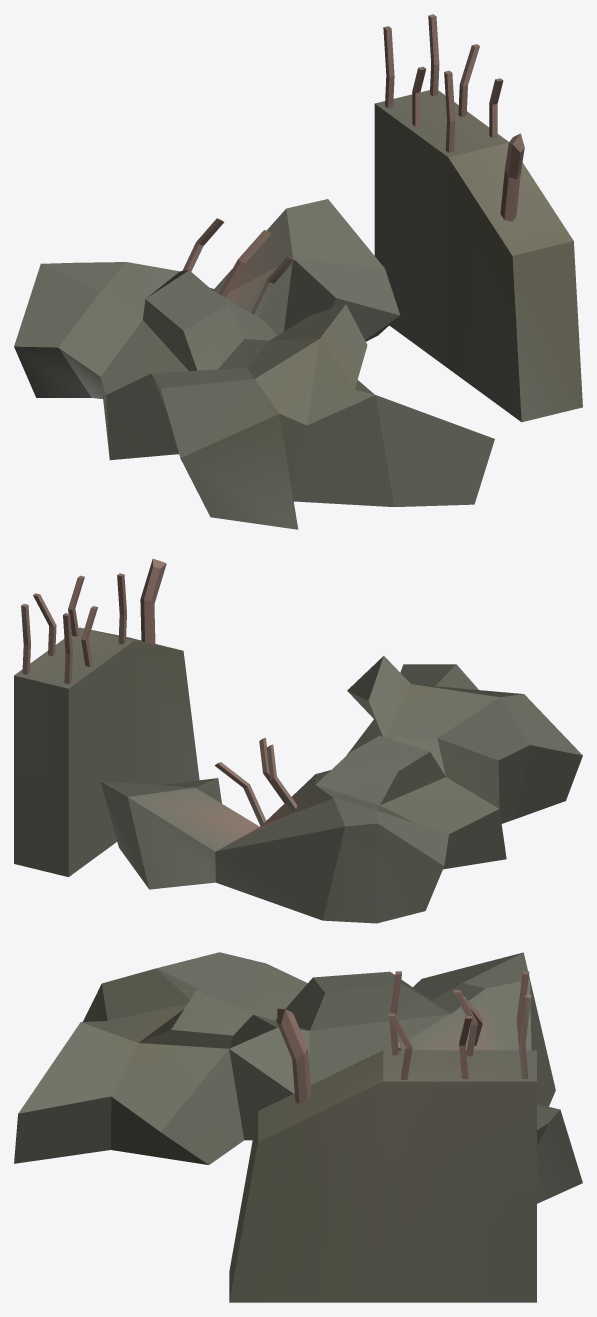
File: EscombrosA.fbx
The picture shows the model from 3 angles, top to bottom: view 1: azimuth 30°, elevation 25°; view 2: azimuth 150°, elevation 25°; view 3: azimuth 270°, elevation 25°; orthographic projection. The views are drawn at different scales.
Visible parts, largest first — view 1: LOD_0; view 2: LOD_0; view 3: LOD_0.
Part boxes in pixels (left/top/right/bottom): LOD_0: left=14, top=14, right=582, bottom=529; LOD_0: left=14, top=558, right=582, bottom=923; LOD_0: left=14, top=952, right=582, bottom=1302.
Size of what is drawn, in the model's own units: 246 by 147 by 251.
